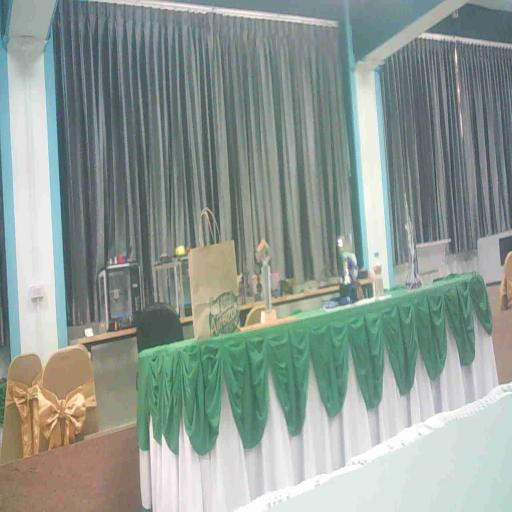bag: (180, 236, 250, 348)
